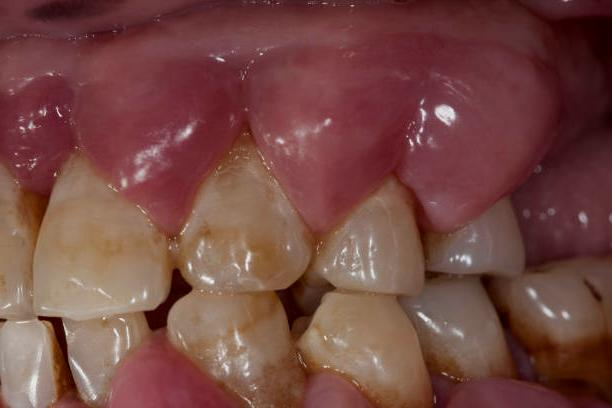Calculus: (13, 121, 180, 321), (158, 121, 328, 302), (164, 260, 301, 402), (294, 272, 434, 403), (490, 248, 603, 399), (390, 253, 523, 379), (51, 274, 160, 401), (0, 287, 65, 406)
